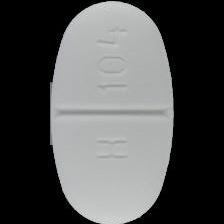23155-104: (0, 0, 224, 224)
